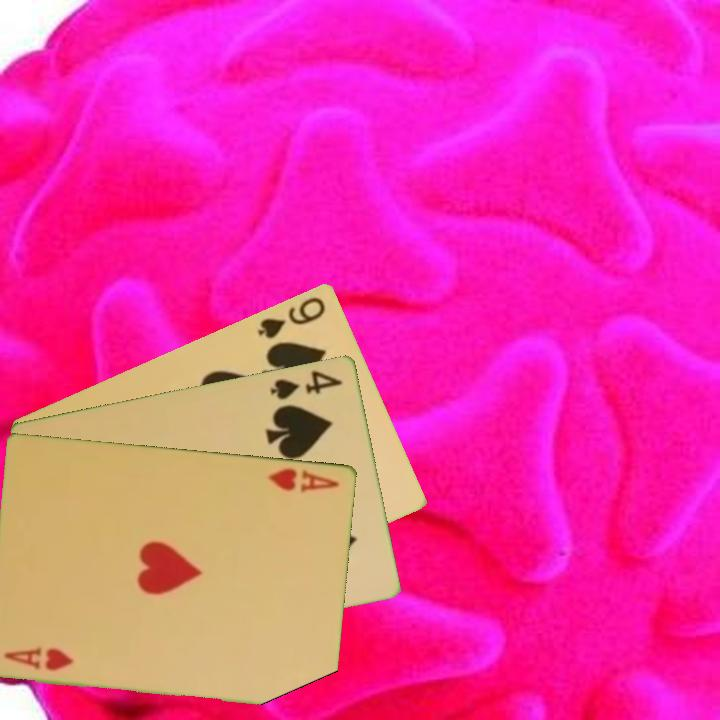4s: (267, 366, 346, 402)
9s: (254, 292, 329, 341)
Ah: (265, 464, 342, 494), (1, 645, 77, 673)
